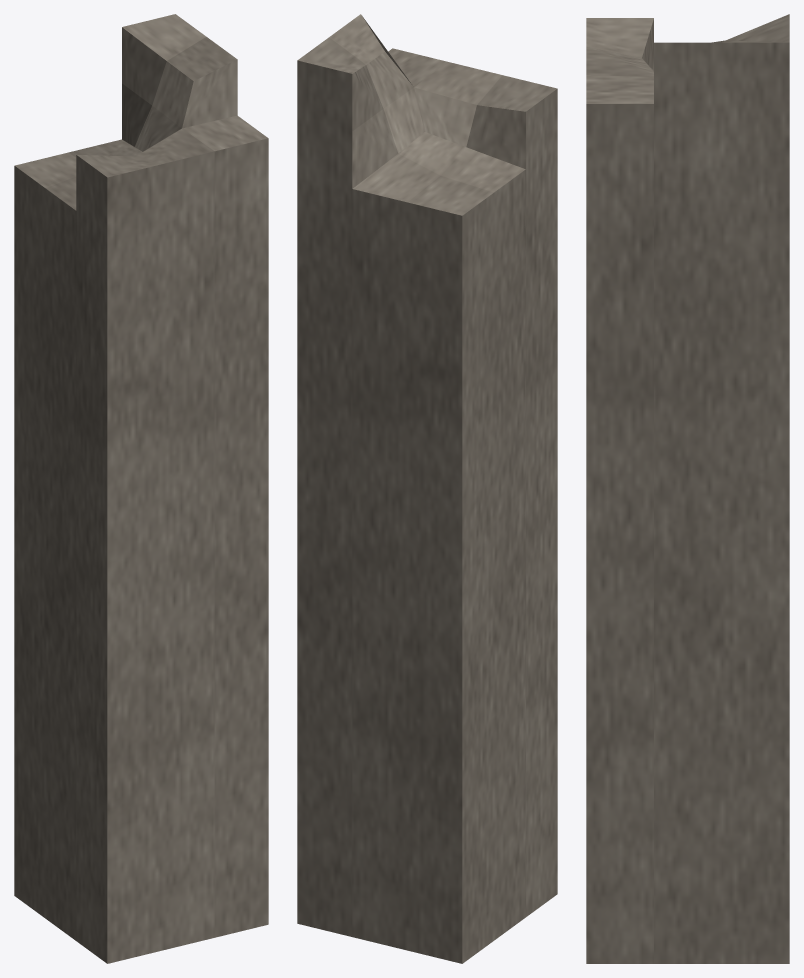
File: prop_fence_post.glb
The picture shows the model from 3 angles, left to right: view 1: azimuth 30°, elevation 25°; view 2: azimuth 150°, elevation 25°; view 3: azimuth 270°, elevation 25°; orthographic projection. The views are drawn at different scales.
Visible parts, largest first — view 1: wilds_prop_fence_post; view 2: wilds_prop_fence_post; view 3: wilds_prop_fence_post.
Part boxes in pixels (x1=…): wilds_prop_fence_post: x1=14, y1=14, x2=268, y2=963; wilds_prop_fence_post: x1=297, y1=14, x2=557, y2=963; wilds_prop_fence_post: x1=586, y1=14, x2=789, y2=963.
Bounding box in the file's own units: 0.1875 × 0.9375 × 0.1875.
1 material, 1 textured.
